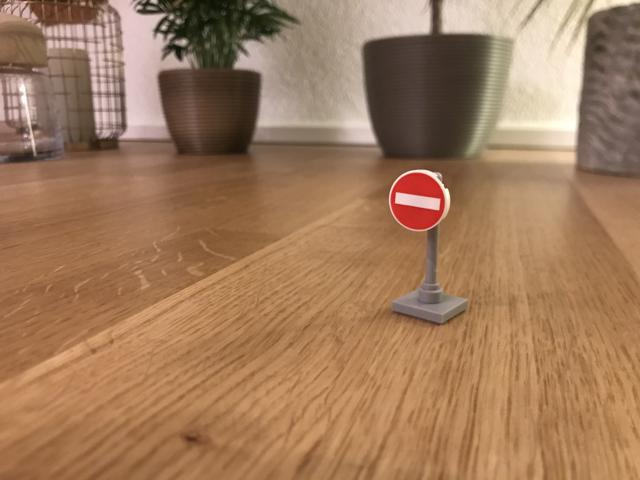verbot der einfahrt: (387, 167, 450, 233)
